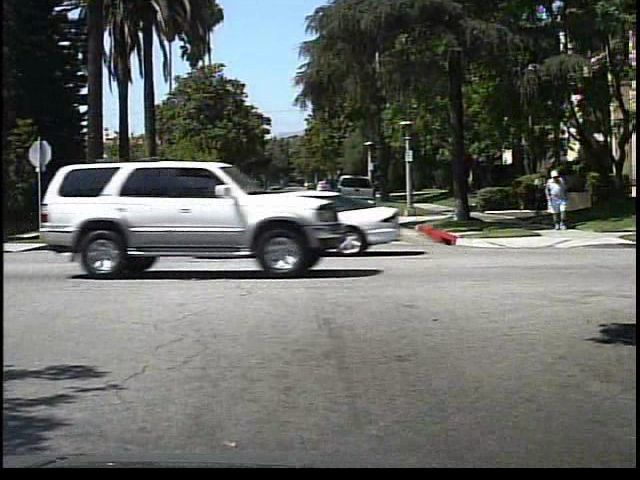person: (540, 169, 570, 234)
